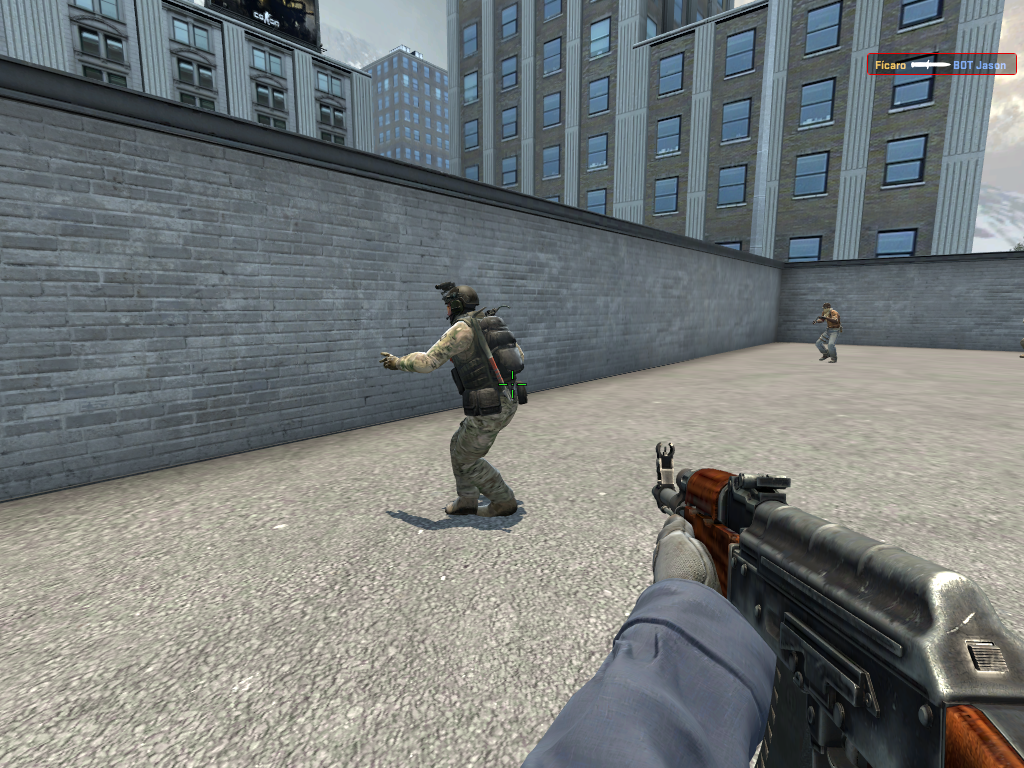ct head: (431, 278, 484, 328)
tr head: (820, 300, 835, 316)
